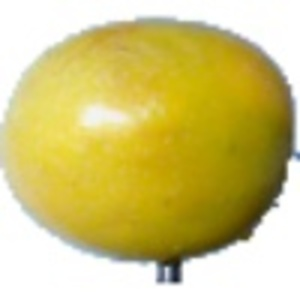maracujá: (1, 15, 300, 286)
